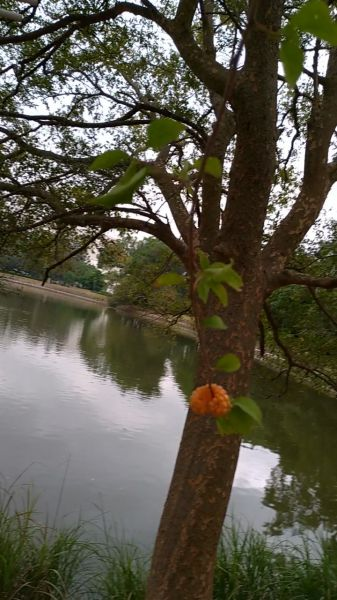eggs: (184, 374, 238, 420)
